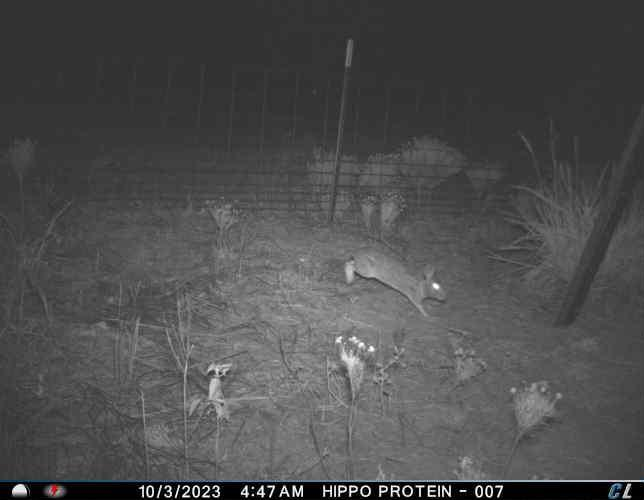Rabbit: (342, 241, 451, 322)
